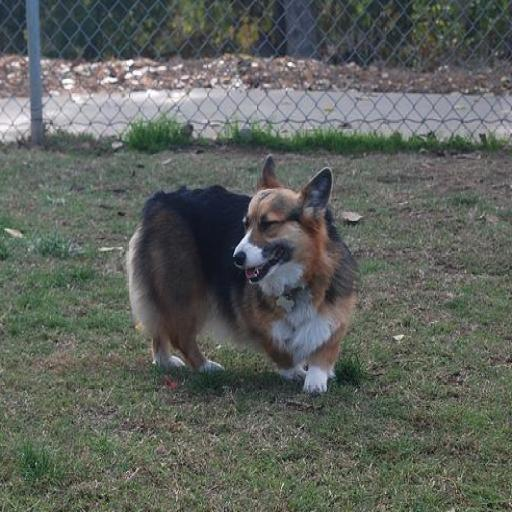dog_face: (234, 158, 340, 289)
